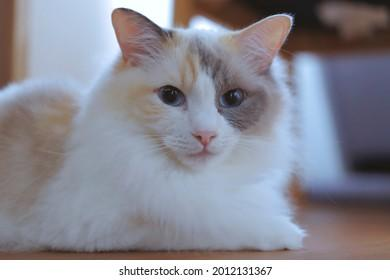ragdoll: (110, 2, 293, 181)
